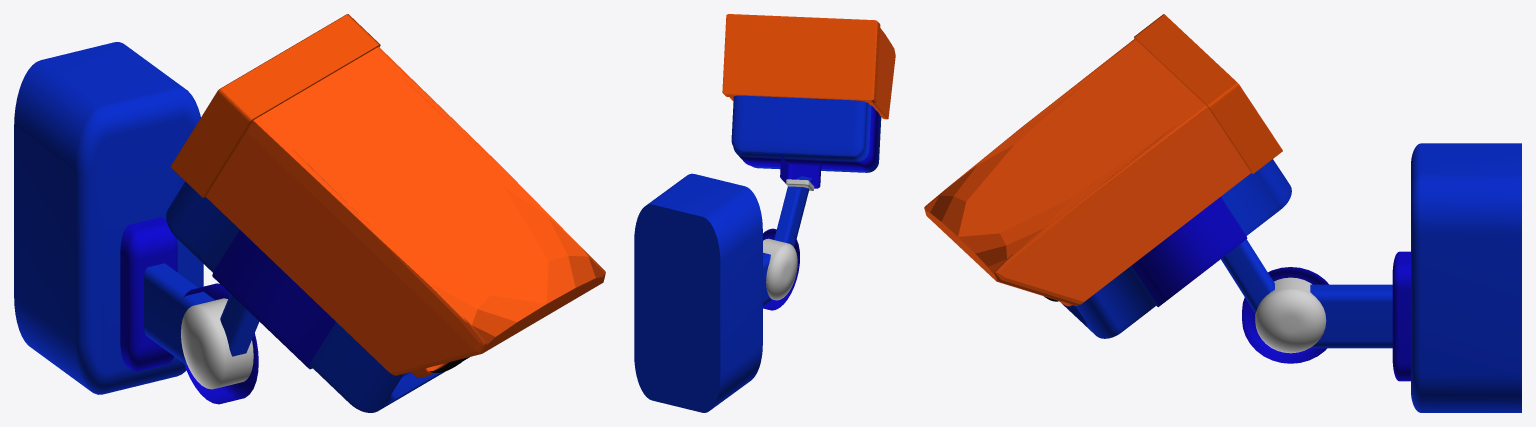
The model's file is Cartoon Security Camera by Jungle Jim.fbx.
3 renders of one model, left to right at view 1: azimuth 30°, elevation 25°; view 2: azimuth 150°, elevation 25°; view 3: azimuth 270°, elevation 25°, orthographic. The views are drawn at different scales.
Visible parts, largest first — view 1: Cube.003, Cube, Cube.001, Cylinder, Cube.002; view 2: Cube, Cube.003, Cylinder, Cube.002, Cube.001; view 3: Cube.003, Cube, Cube.001, Cylinder, Cube.002.
Boxes of the visible parts, x1,y1,x2,y2 form: Cube.003: (166,14,605,412); Cube: (14,42,203,394); Cube.001: (120,217,214,371); Cylinder: (181,283,258,404); Cube.002: (220,294,259,356); Cube: (634,173,762,412); Cube.003: (722,14,895,190); Cylinder: (763,228,799,310); Cube.002: (774,176,811,247); Cube.001: (763,252,771,306); Cube.003: (924,14,1291,338); Cube: (1411,143,1521,412); Cube.001: (1310,251,1410,381); Cylinder: (1242,267,1328,363); Cube.002: (1221,239,1274,313).
Size of the model in its own units: 222 by 456 by 297.
